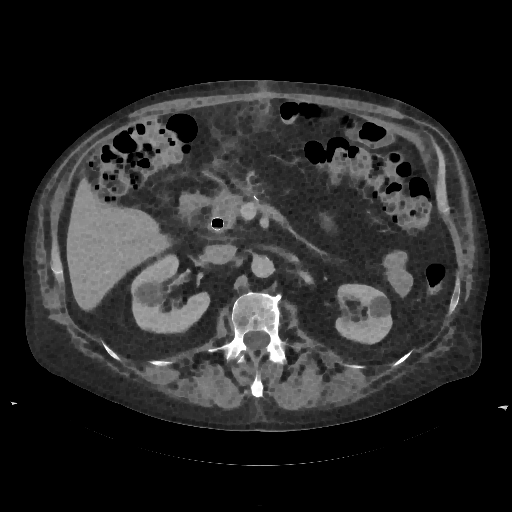Lesion: (133, 278, 167, 313)
